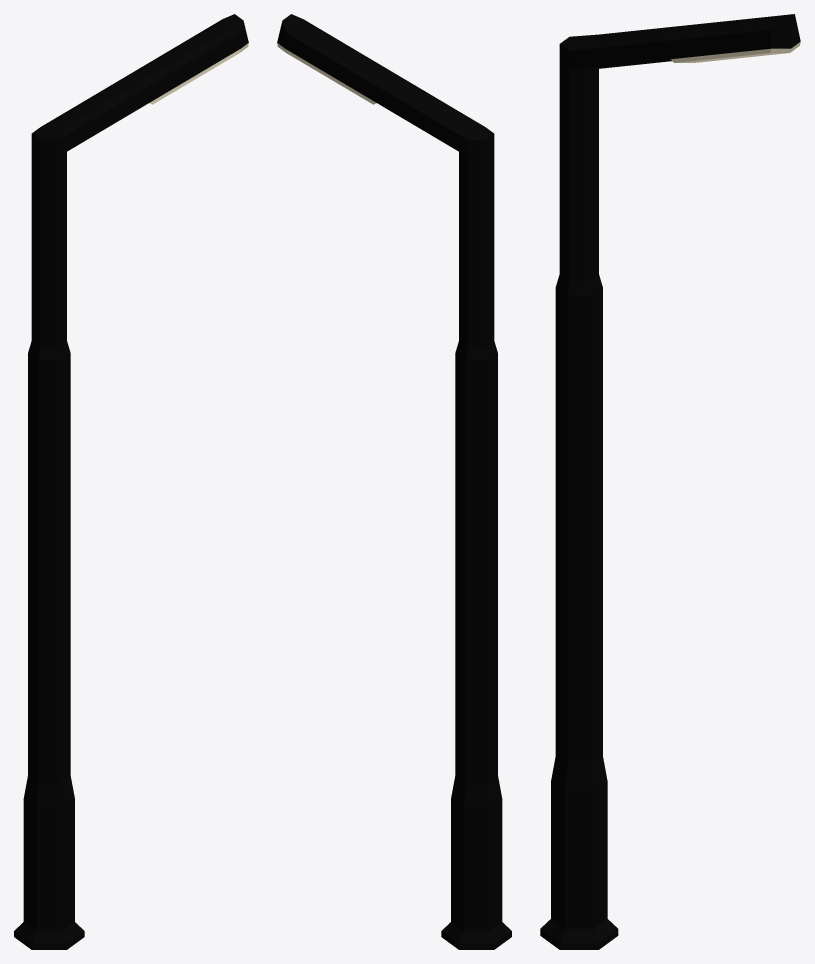
Rendered from Straßenlaterne.fbx.
3 views of the same model, side by side, from view 1: azimuth 30°, elevation 25°; view 2: azimuth 150°, elevation 25°; view 3: azimuth 330°, elevation 25° (orthographic). The views are drawn at different scales.
Parts seen in each view (by area): view 1: LampPost; view 2: LampPost; view 3: LampPost.
Boxes of the visible parts, x1,y1,x2,y2 form: LampPost: (14, 14, 248, 949); LampPost: (277, 14, 511, 949); LampPost: (540, 14, 800, 949).
Bounding box in the file's own units: 110 × 413 × 30.2.
